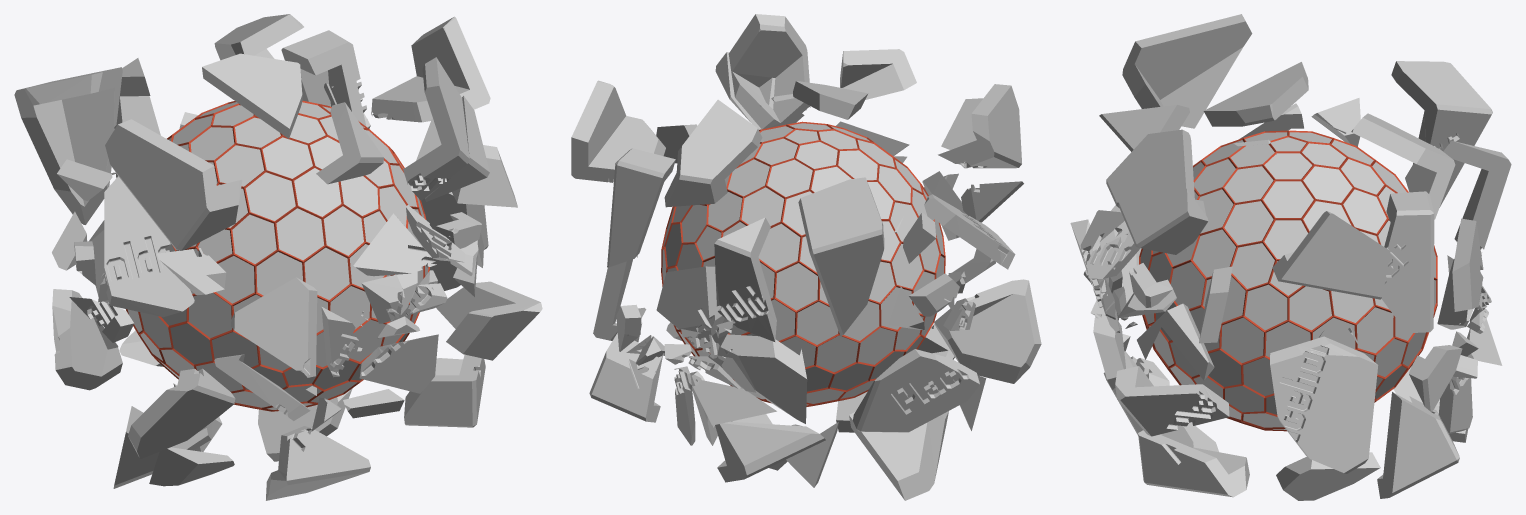
Rendered from Placeholder_Cube_1.obj.
The picture shows the model from 3 angles, left to right: view 1: azimuth 30°, elevation 25°; view 2: azimuth 150°, elevation 25°; view 3: azimuth 270°, elevation 25°; orthographic projection. The views are drawn at different scales.
Parts seen in each view (by area): view 1: Icosphere.001_Icosphere.002, Cube_cell.366_cell.003_Cube_cell.366_cell.045, Cube_cell.400_Cube_cell.1377, Cube_cell.407_Cube_cell.1384, Placeholder_Cube_1_Icosphere, Cube_cell.392_cell.005_Cube_cell.392_cell.047, Cube_cell.405_Cube_cell.1382, Cube_cell.406_Cube_cell.1383, Cube_cell.366_cell.004_Cube_cell.366_cell.046, Cube_cell.402_Cube_cell.1379, Cube_cell.032_cell.006_Cube_cell.032_cell.047, Cube_cell.409_Cube_cell.1386 (+29 smaller); view 2: Icosphere.001_Icosphere.002, Cube_cell.400_Cube_cell.1377, Cube_cell.402_Cube_cell.1379, Cube_cell.409_Cube_cell.1386, Placeholder_Cube_1_Icosphere, Cube_cell.032_cell.006_Cube_cell.032_cell.047, Cube_cell.371_cell.005_Cube_cell.371_cell.047, Cube_cell.394_Cube_cell.1371, Cube_cell.405_Cube_cell.1382, Cube_cell.366_cell.003_Cube_cell.366_cell.045, Cube_cell.399_Cube_cell.1376, Cube_cell.410_Cube_cell.1387 (+27 smaller); view 3: Icosphere.001_Icosphere.002, Cube_cell.397_Cube_cell.1374, Cube_cell.366_cell.003_Cube_cell.366_cell.045, Placeholder_Cube_1_Icosphere, Cube_cell.405_Cube_cell.1382, Cube_cell.399_Cube_cell.1376, Cube_cell.400_Cube_cell.1377, Cube_cell.367_cell.003_Cube_cell.367_cell.017, Cube_cell.398_Cube_cell.1375, Cube_cell.406_Cube_cell.1383, Cube_cell.032_cell.006_Cube_cell.032_cell.047, Cube_cell.032_cell.005_Cube_cell.032_cell.046 (+23 smaller).
Part boxes in pixels (x1,y1,x2,y2): Icosphere.001_Icosphere.002: (128,102,428,409); Cube_cell.366_cell.003_Cube_cell.366_cell.045: (105,119,242,250); Cube_cell.400_Cube_cell.1377: (14,67,122,224); Cube_cell.407_Cube_cell.1384: (104,176,194,317); Placeholder_Cube_1_Icosphere: (126,100,429,411); Cube_cell.392_cell.005_Cube_cell.392_cell.047: (231,277,317,377); Cube_cell.405_Cube_cell.1382: (371,16,490,122); Cube_cell.406_Cube_cell.1383: (436,281,542,360); Cube_cell.366_cell.004_Cube_cell.366_cell.046: (202,53,302,138); Cube_cell.402_Cube_cell.1379: (128,368,235,459); Cube_cell.032_cell.006_Cube_cell.032_cell.047: (403,57,469,200); Cube_cell.409_Cube_cell.1386: (52,289,122,390); Icosphere.001_Icosphere.002: (662,123,944,405); Cube_cell.400_Cube_cell.1377: (798,177,884,336); Cube_cell.402_Cube_cell.1379: (934,279,1041,383); Cube_cell.409_Cube_cell.1386: (853,349,979,432); Placeholder_Cube_1_Icosphere: (661,121,945,406); Cube_cell.032_cell.006_Cube_cell.032_cell.047: (728,14,810,129); Cube_cell.371_cell.005_Cube_cell.371_cell.047: (664,99,762,207); Cube_cell.394_Cube_cell.1371: (714,217,776,341); Cube_cell.405_Cube_cell.1382: (571,80,665,182); Cube_cell.366_cell.003_Cube_cell.366_cell.045: (938,84,1021,168); Cube_cell.399_Cube_cell.1376: (607,148,675,267); Cube_cell.410_Cube_cell.1387: (708,334,807,423); Icosphere.001_Icosphere.002: (1140,132,1435,429); Cube_cell.397_Cube_cell.1374: (1270,336,1378,473); Cube_cell.366_cell.003_Cube_cell.366_cell.045: (1122,14,1252,128); Placeholder_Cube_1_Icosphere: (1139,130,1437,431); Cube_cell.405_Cube_cell.1382: (1272,211,1390,299); Cube_cell.399_Cube_cell.1376: (1381,191,1434,333); Cube_cell.400_Cube_cell.1377: (1391,61,1492,207); Cube_cell.367_cell.003_Cube_cell.367_cell.017: (1377,392,1459,498); Cube_cell.398_Cube_cell.1375: (1138,425,1249,497); Cube_cell.406_Cube_cell.1383: (1115,366,1229,436); Cube_cell.032_cell.006_Cube_cell.032_cell.047: (1106,129,1206,215); Cube_cell.032_cell.005_Cube_cell.032_cell.046: (1118,189,1208,254).
Size of the model in its own units: 4.36 by 4.28 by 4.13.
